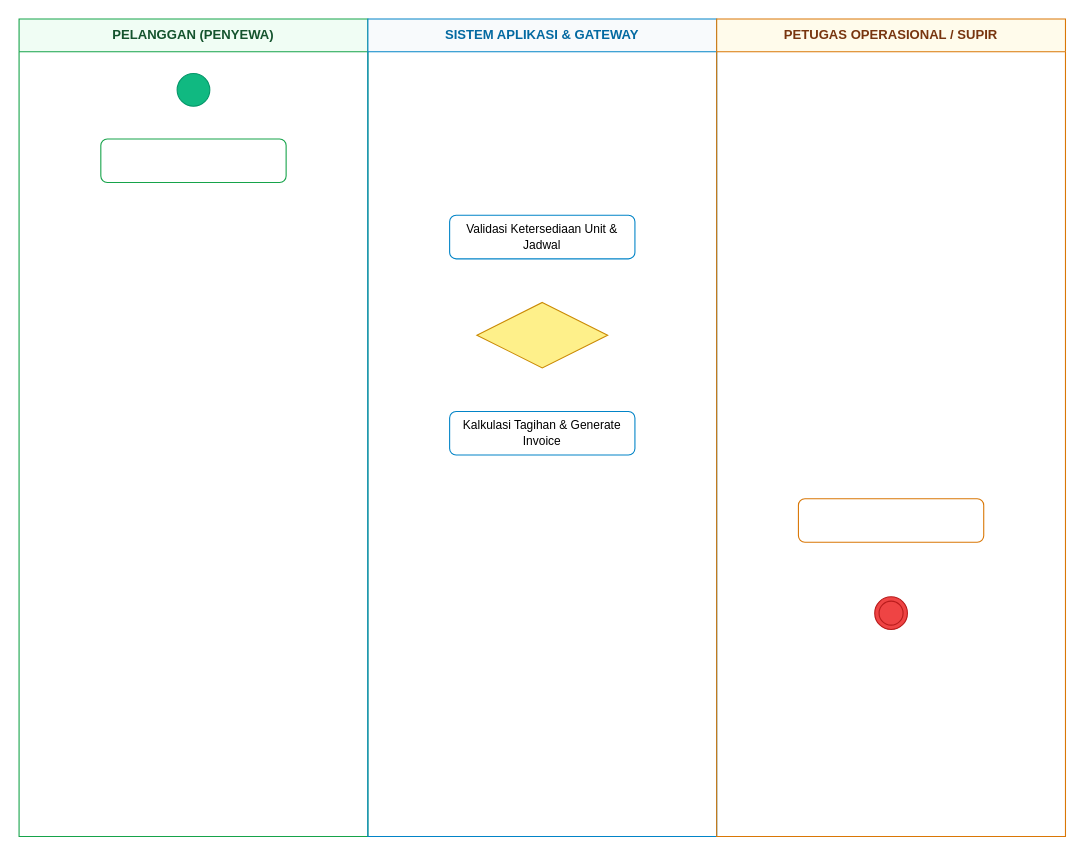
Some shapes in this 1085 by 856 pixel diagram are drawn without their labels. The centre of each missing label's shape, as x and y in pixels:
Inspeksi Fisik & Tanda Tangan BAST: the point at 890,520
Pilih Mobil & Durasi Sewa: the point at 193,160
Unit Tersedia?: the point at 542,334
